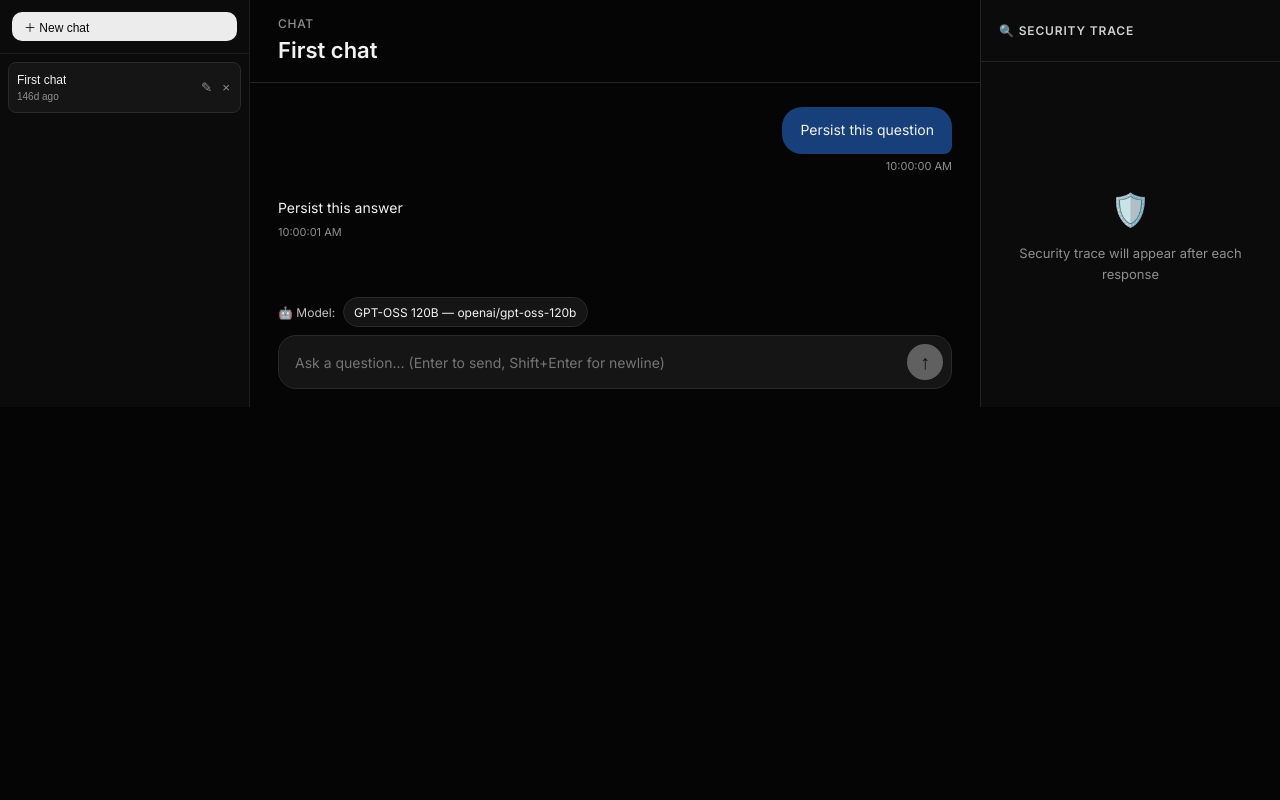
it: persistent conversations › renames and deletes a conversation in the sidebar
Expected: the 2nd text "First chat" is shown, [17,73,66,87]
Click the button named "Rename First chat" at (207, 88), box [196,75,217,100]
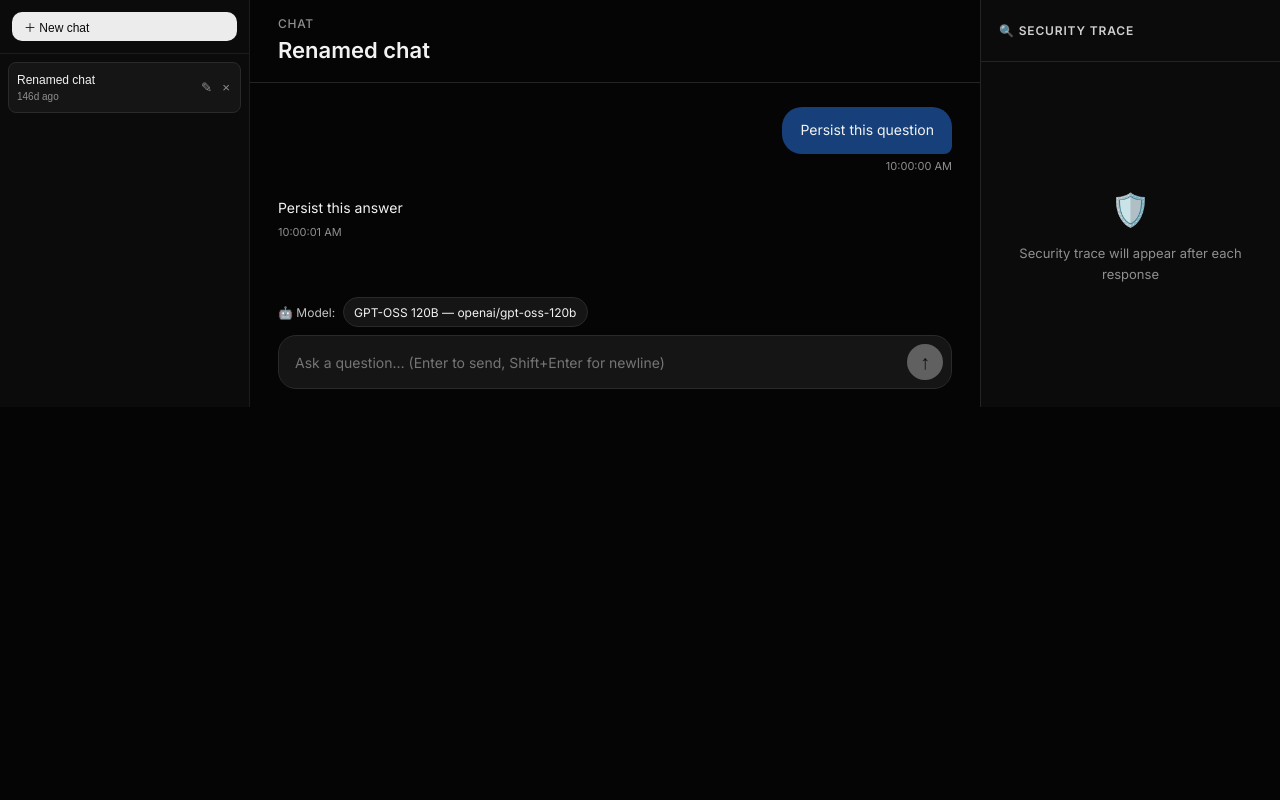
Expected: the 2nd text "Renamed chat" is shown, [17,73,95,87]
Click the button named "Delete Renamed chat" at (226, 88), box [217,75,235,100]
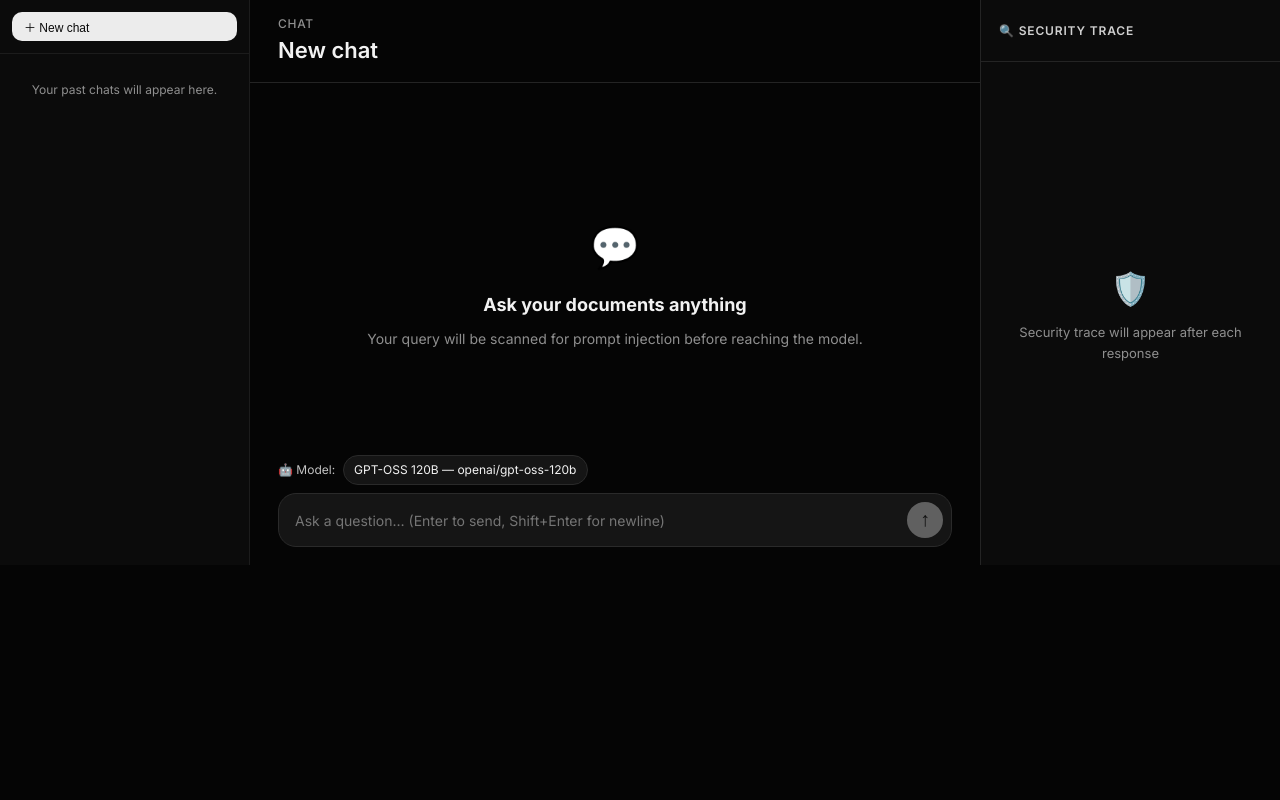
Expected: the button "Renamed chat" is gone
